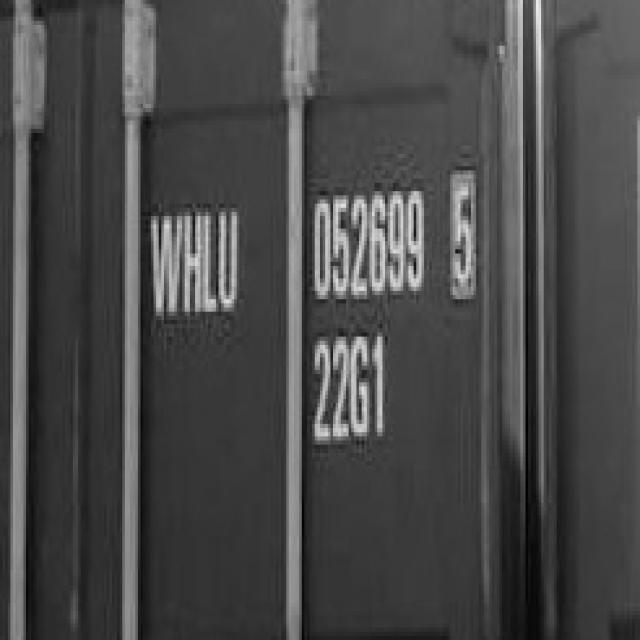dv: (446, 164, 482, 296)
owner: (136, 196, 250, 326)
serial: (307, 177, 434, 297)
size: (304, 324, 402, 454)
